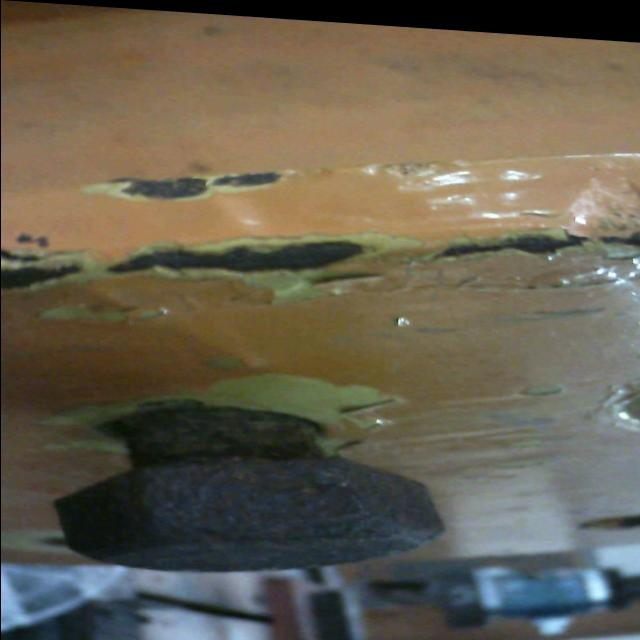Loose bolt: (65, 397, 443, 584)
Rusty bolt: (61, 393, 444, 587)
